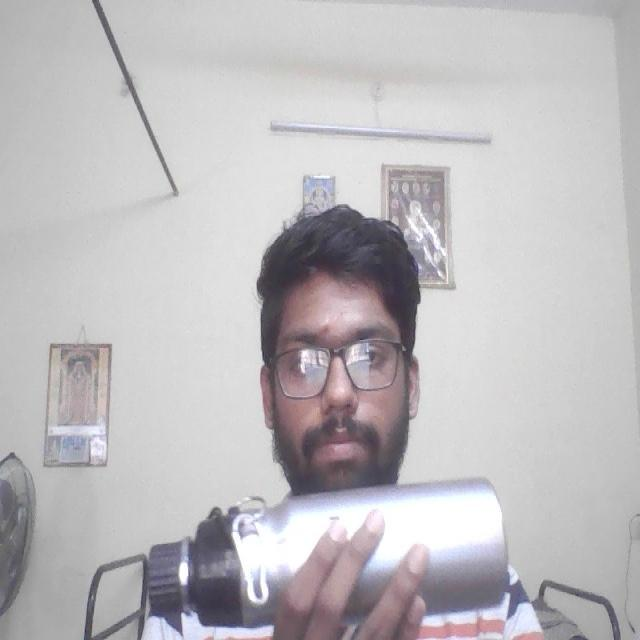Drinking: (145, 478, 519, 629)
